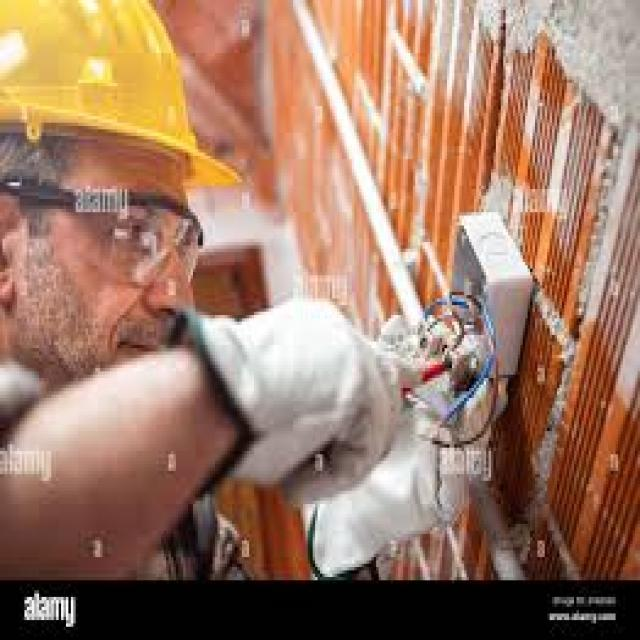screwdriver: (361, 340, 474, 423)
